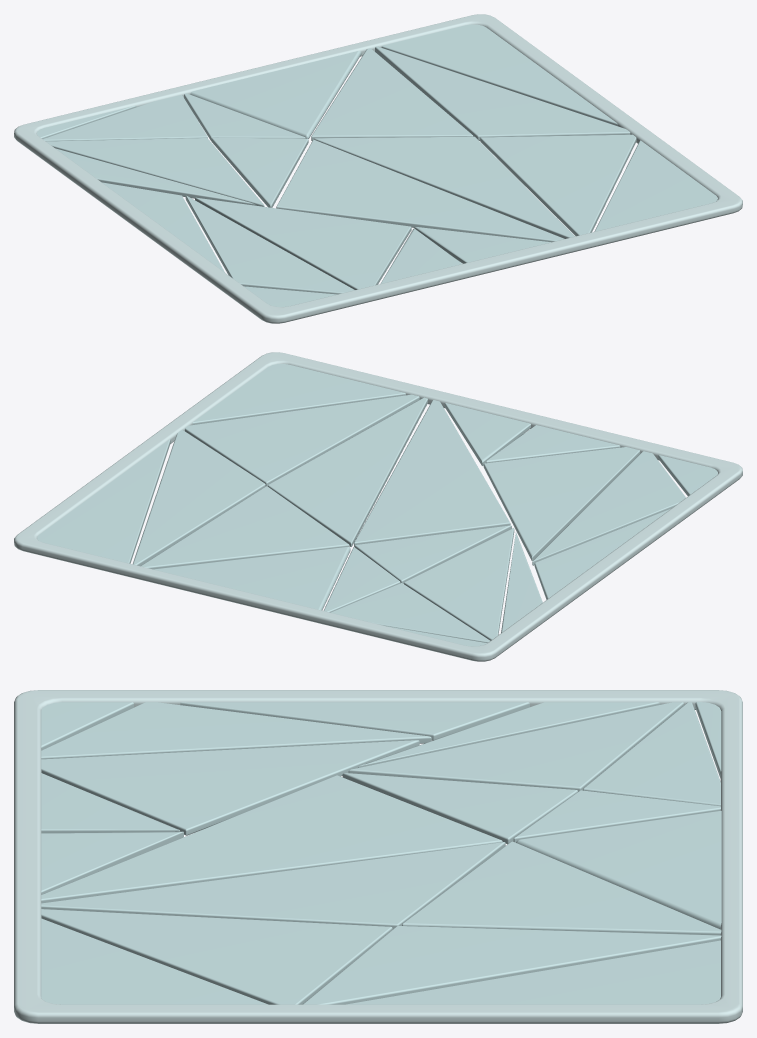
File: triangle board.fbx
3 renders of one model, top to bottom at view 1: azimuth 30°, elevation 25°; view 2: azimuth 150°, elevation 25°; view 3: azimuth 270°, elevation 25°, orthographic. The views are drawn at different scales.
Visible parts, largest first — view 1: triangle, pCube1; view 2: triangle, pCube1; view 3: triangle, pCube1.
Part boxes in pixels (x1=…): triangle: x1=37, y1=24, x2=717, y2=306; pCube1: x1=14, y1=14, x2=742, y2=323; triangle: x1=37, y1=364, x2=717, y2=646; pCube1: x1=14, y1=352, x2=742, y2=661; triangle: x1=41, y1=702, x2=721, y2=1004; pCube1: x1=14, y1=690, x2=742, y2=1023.
Bounding box in the file's own units: 1167 × 18.77 × 1106.
